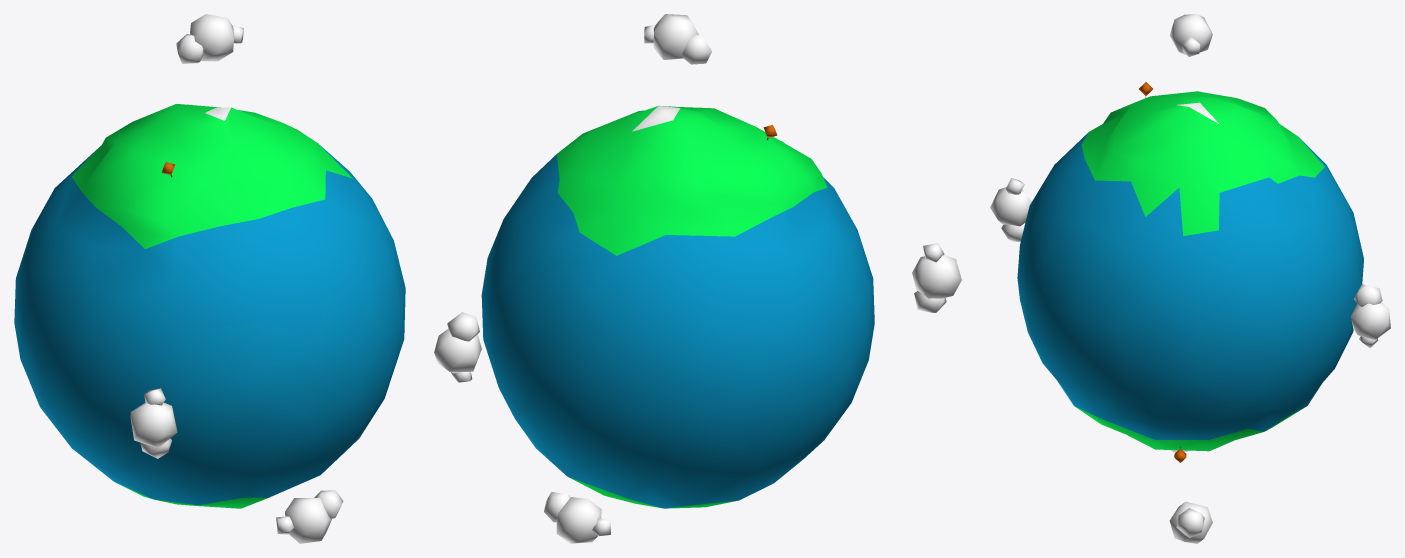
3 renders of one model, left to right at view 1: azimuth 30°, elevation 25°; view 2: azimuth 150°, elevation 25°; view 3: azimuth 270°, elevation 25°, orthographic. The views are drawn at different scales.
Visible parts, largest first — view 1: 棱角球.001; view 2: 棱角球.001; view 3: 棱角球.001.
Part boxes in pixels (box(x1,y1,x2,y2)): 棱角球.001: box(14, 14, 405, 543); 棱角球.001: box(434, 14, 961, 543); 棱角球.001: box(990, 14, 1390, 543).
Bounding box in the file's own units: 2.05 × 3.09 × 2.32.
Materials: 1 (1 with a texture image).
